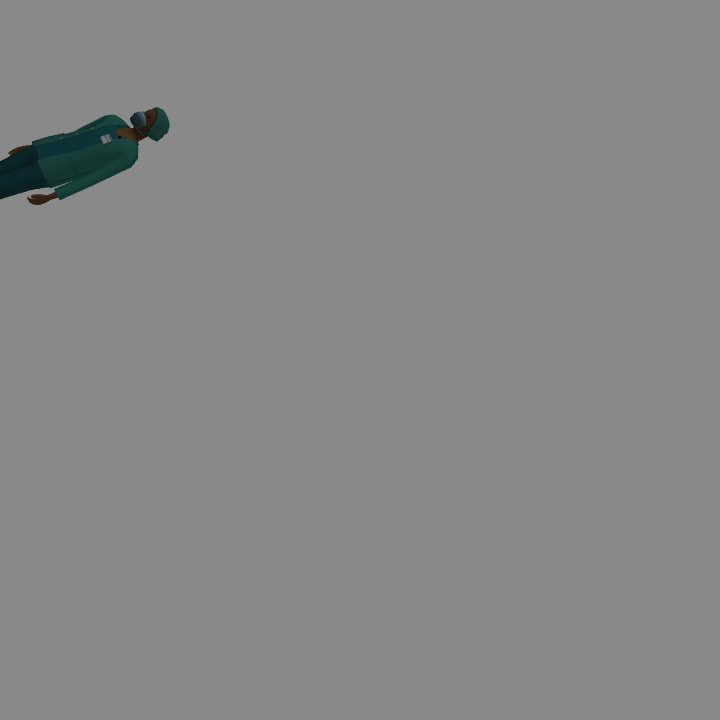victim: (1, 108, 169, 205)
